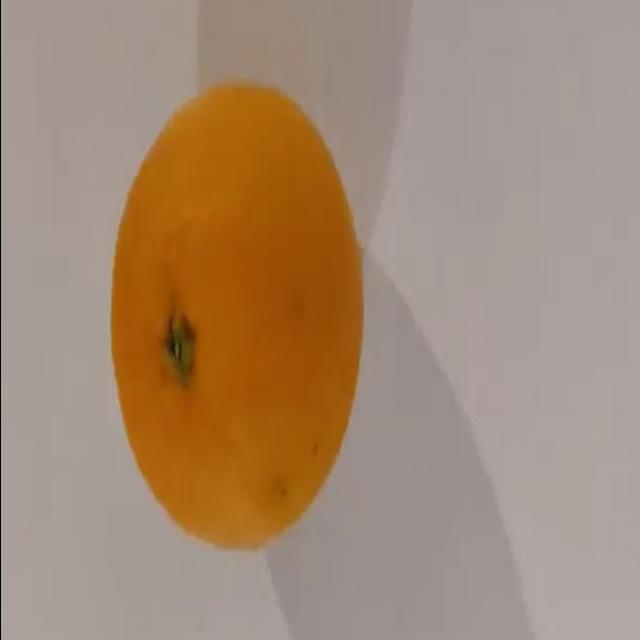Orange: (109, 81, 365, 551)
